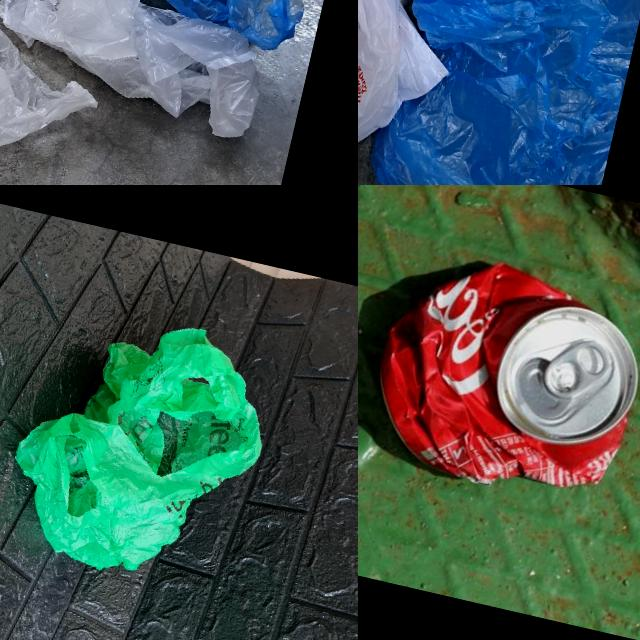aba de lata: (541, 332, 613, 406)
lata: (358, 241, 640, 514)
sacola plástica: (0, 290, 286, 600), (361, 0, 640, 185), (0, 0, 288, 147), (0, 0, 129, 185), (358, 0, 513, 151), (0, 0, 335, 51)
